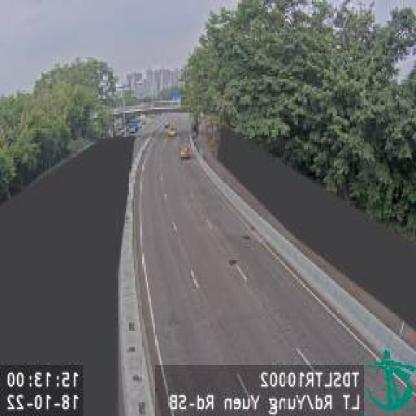Car: (179, 142, 192, 160)
